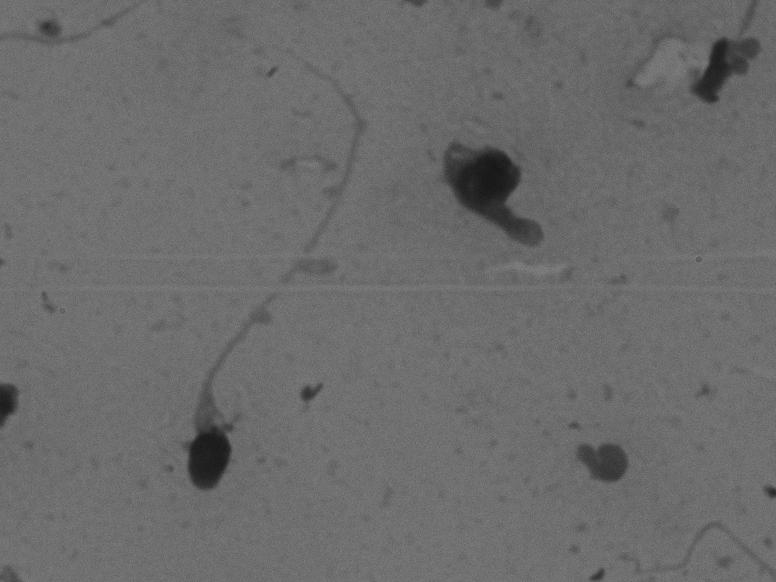Abnormal: (148, 25, 396, 503), (425, 111, 584, 298)
